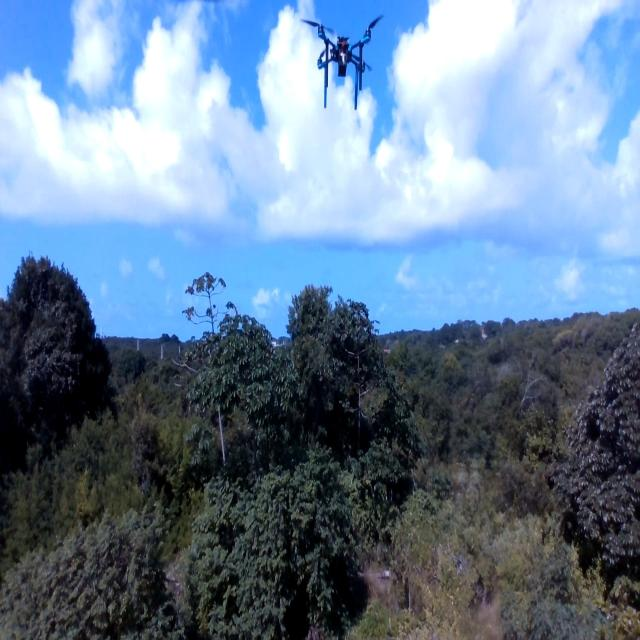-uav-: (296, 6, 388, 133)
